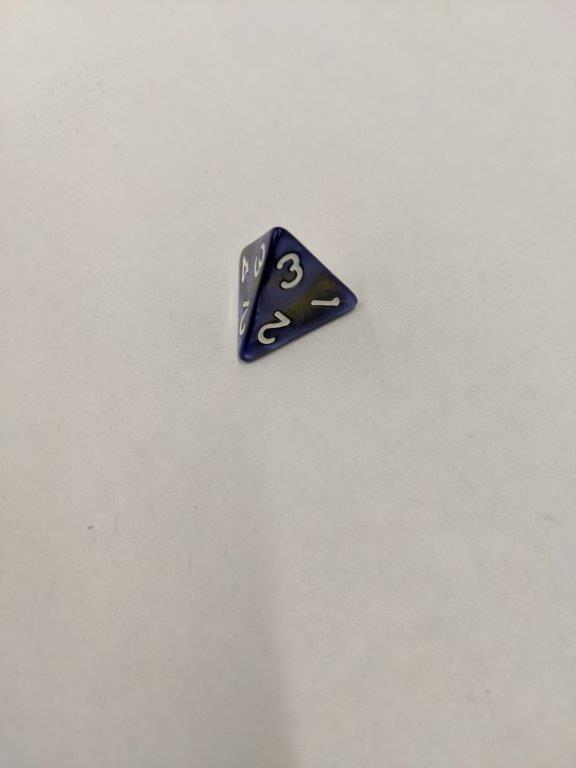d4-3: (231, 221, 362, 369)
